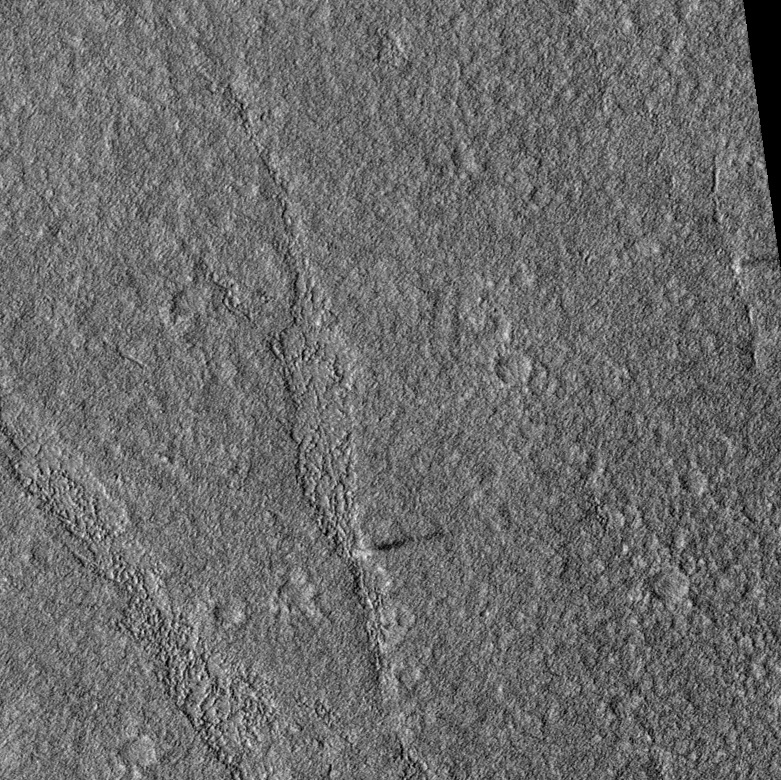dust_devil: (350, 528, 447, 562)
